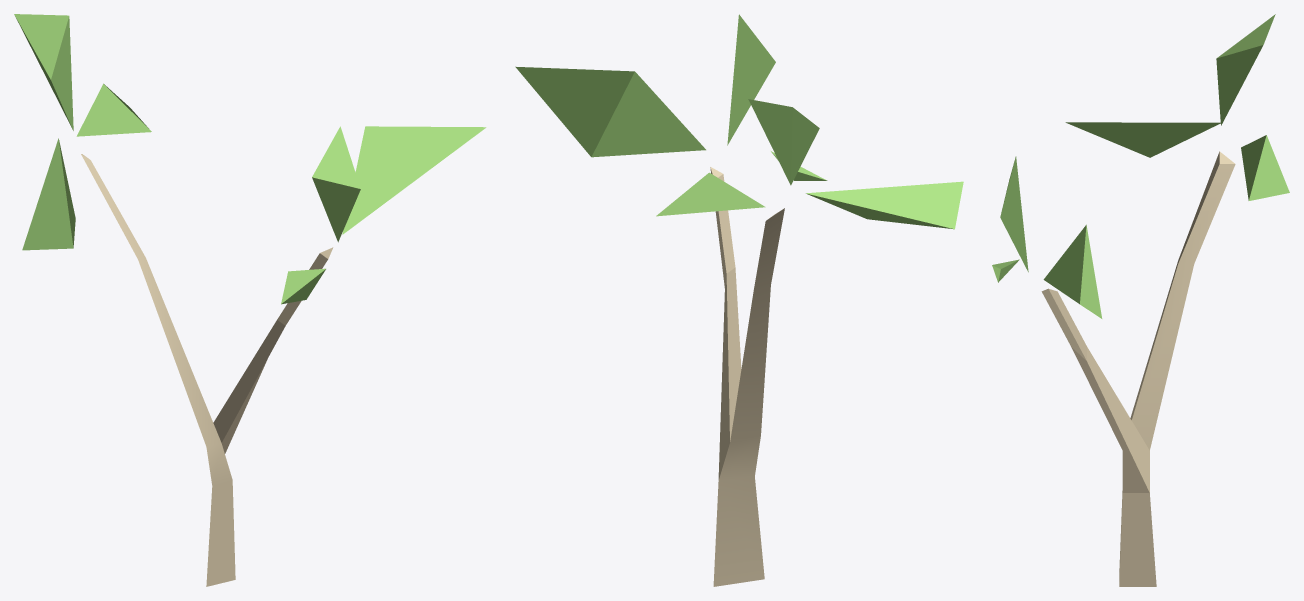
3 views of the same model, side by side, from view 1: azimuth 30°, elevation 25°; view 2: azimuth 150°, elevation 25°; view 3: azimuth 270°, elevation 25° (orthographic). The views are drawn at different scales.
Visible parts, largest first — view 1: Base, Triangle101, Triangle104, Triangle102, Triangle103, Triangle105, Triangle106; view 2: Base, Triangle101, Triangle102, Triangle104, Triangle103, Triangle105; view 3: Base, Triangle102, Triangle101, Triangle104, Triangle105, Triangle103.
Boxes of the visible parts, box(x1,y1,x2,y2) form: Base: box(81, 154, 333, 586); Triangle101: box(342, 126, 486, 234); Triangle104: box(14, 14, 73, 130); Triangle102: box(22, 138, 75, 250); Triangle103: box(312, 126, 360, 242); Triangle105: box(76, 83, 151, 136); Triangle106: box(281, 268, 325, 304); Base: box(710, 167, 784, 586); Triangle101: box(515, 66, 705, 157); Triangle102: box(806, 181, 963, 229); Triangle104: box(748, 99, 819, 185); Triangle103: box(727, 14, 775, 145); Triangle105: box(656, 172, 765, 216); Base: box(1041, 151, 1235, 586); Triangle102: box(1065, 122, 1220, 157); Triangle101: box(1043, 224, 1102, 318); Triangle104: box(1216, 14, 1275, 125); Triangle105: box(1241, 135, 1289, 200); Triangle103: box(1000, 156, 1028, 272).
Size of the model in its own units: 11.67 by 13.58 by 7.2.
